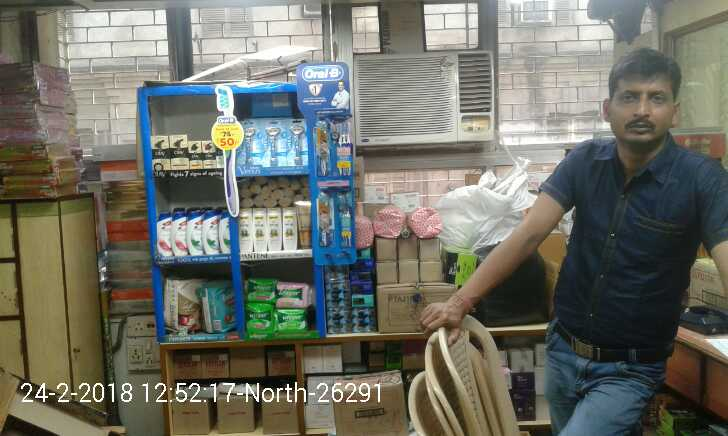venus: (285, 118, 307, 165), (263, 119, 285, 165), (241, 119, 263, 164)
